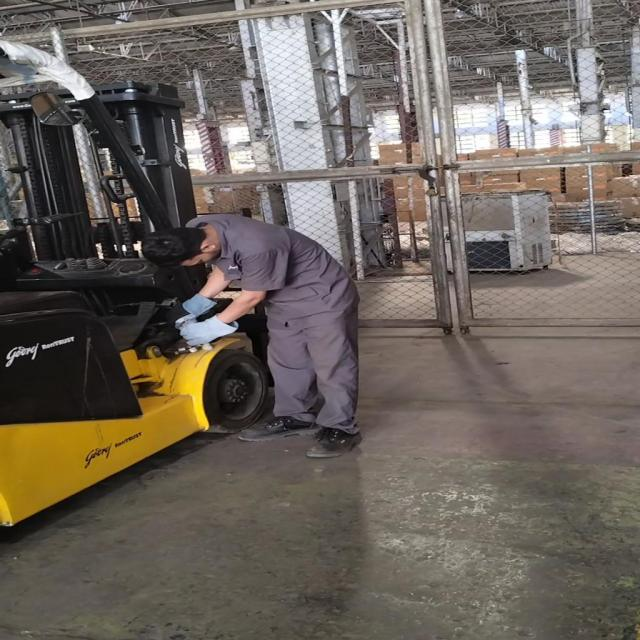Gloves-Detection: (164, 293, 235, 349)
